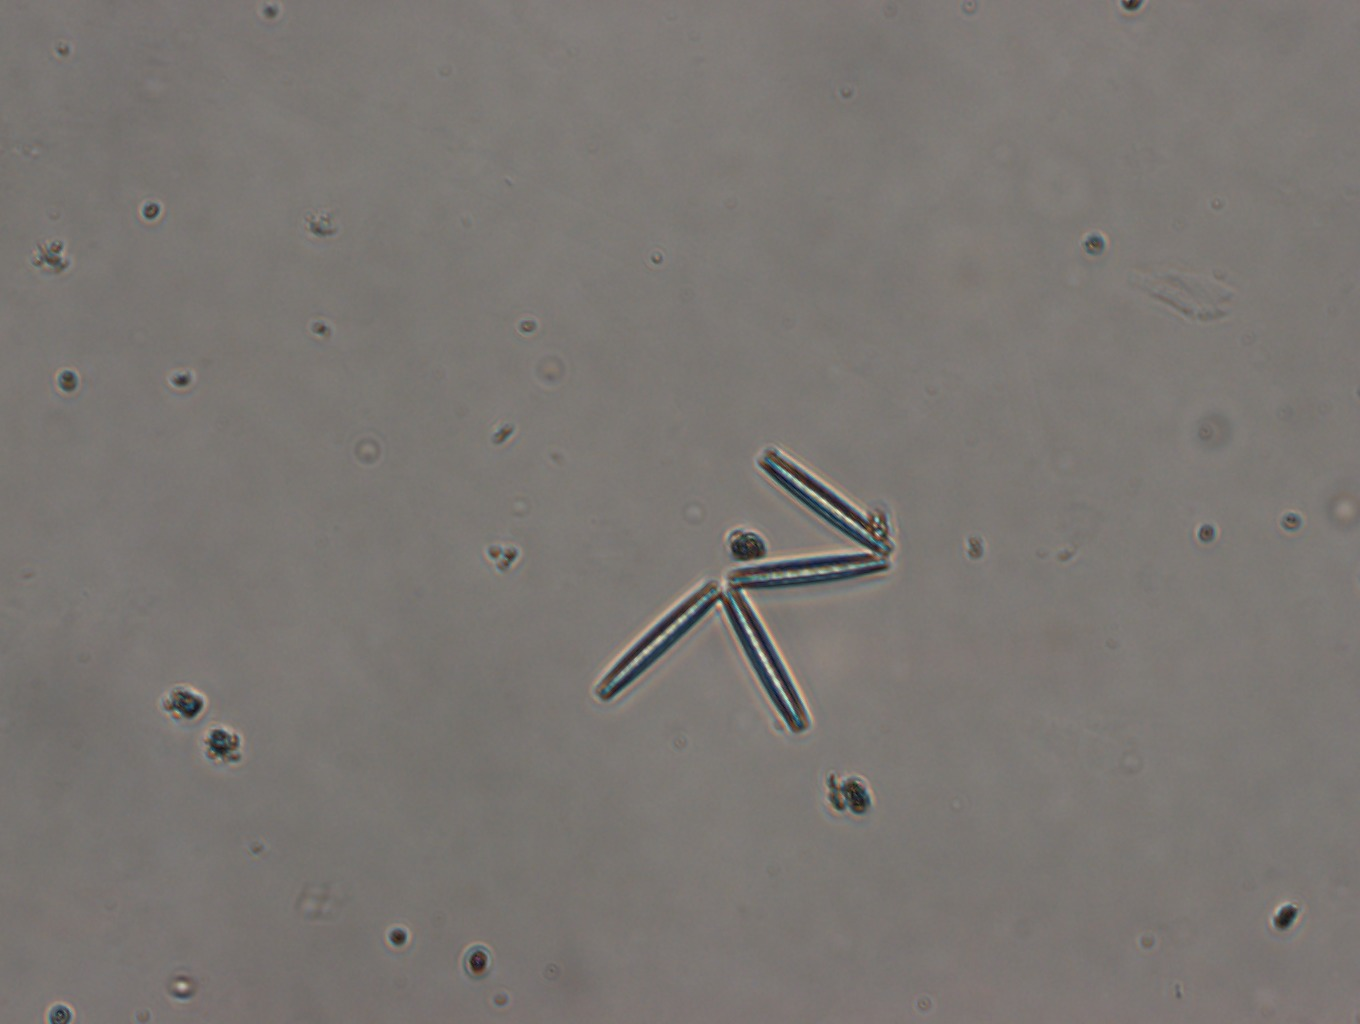thalassionema nitzschioides: (588, 442, 896, 736)
